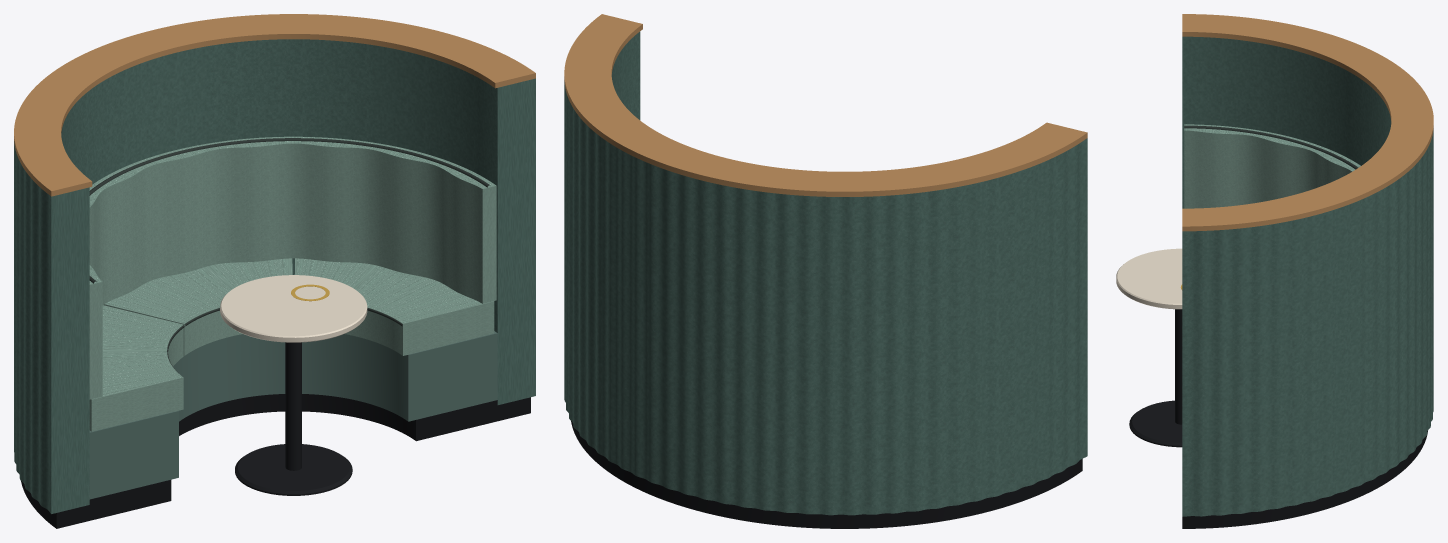
The model's file is Office_Commons_Acoustic_Booth.glb.
3 renders of one model, left to right at view 1: azimuth 30°, elevation 25°; view 2: azimuth 150°, elevation 25°; view 3: azimuth 270°, elevation 25°, orthographic. The views are drawn at different scales.
Parts seen in each view (by area): view 1: Felt_Back_Shell_Fluted, Backrest_Channel_Tufted, Bench_Base_Upholstery, Oak_Top_Rail, Seat_Cushion_3, Seat_Cushion_1, Table_Top, Bench_Toe_Plinth, Seat_Cushion_2, Table_Base_Disc, Table_Column, Backrest_Top_Piping (+1 smaller); view 2: Felt_Back_Shell_Fluted, Oak_Top_Rail, Plinth_Kickplate; view 3: Felt_Back_Shell_Fluted, Oak_Top_Rail, Backrest_Channel_Tufted, Table_Top, Plinth_Kickplate, Table_Base_Disc, Table_Column, Backrest_Top_Piping.
Boxes of the visible parts, x1,y1,x2,y2 form: Felt_Back_Shell_Fluted: [14, 39, 535, 513]; Backrest_Channel_Tufted: [89, 136, 496, 399]; Bench_Base_Upholstery: [89, 331, 497, 499]; Oak_Top_Rail: [14, 14, 535, 196]; Seat_Cushion_3: [294, 258, 494, 355]; Seat_Cushion_1: [89, 305, 183, 431]; Table_Top: [220, 275, 367, 342]; Bench_Toe_Plinth: [89, 394, 497, 520]; Seat_Cushion_2: [103, 258, 292, 355]; Table_Base_Disc: [235, 444, 352, 495]; Table_Column: [285, 342, 301, 470]; Backrest_Top_Piping: [89, 138, 490, 283]; Felt_Back_Shell_Fluted: [564, 31, 1087, 515]; Oak_Top_Rail: [564, 14, 1087, 196]; Plinth_Kickplate: [571, 421, 1082, 528]; Felt_Back_Shell_Fluted: [1182, 36, 1433, 516]; Oak_Top_Rail: [1182, 14, 1433, 231]; Backrest_Channel_Tufted: [1184, 124, 1360, 208]; Table_Top: [1116, 248, 1182, 309]; Plinth_Kickplate: [1182, 431, 1427, 528]; Table_Base_Disc: [1129, 400, 1182, 447]; Table_Column: [1175, 309, 1182, 424]; Backrest_Top_Piping: [1184, 125, 1358, 169].
Bounding box in the file's own units: 1.9 × 1.27 × 1.2.
9 materials, 2 textured.
